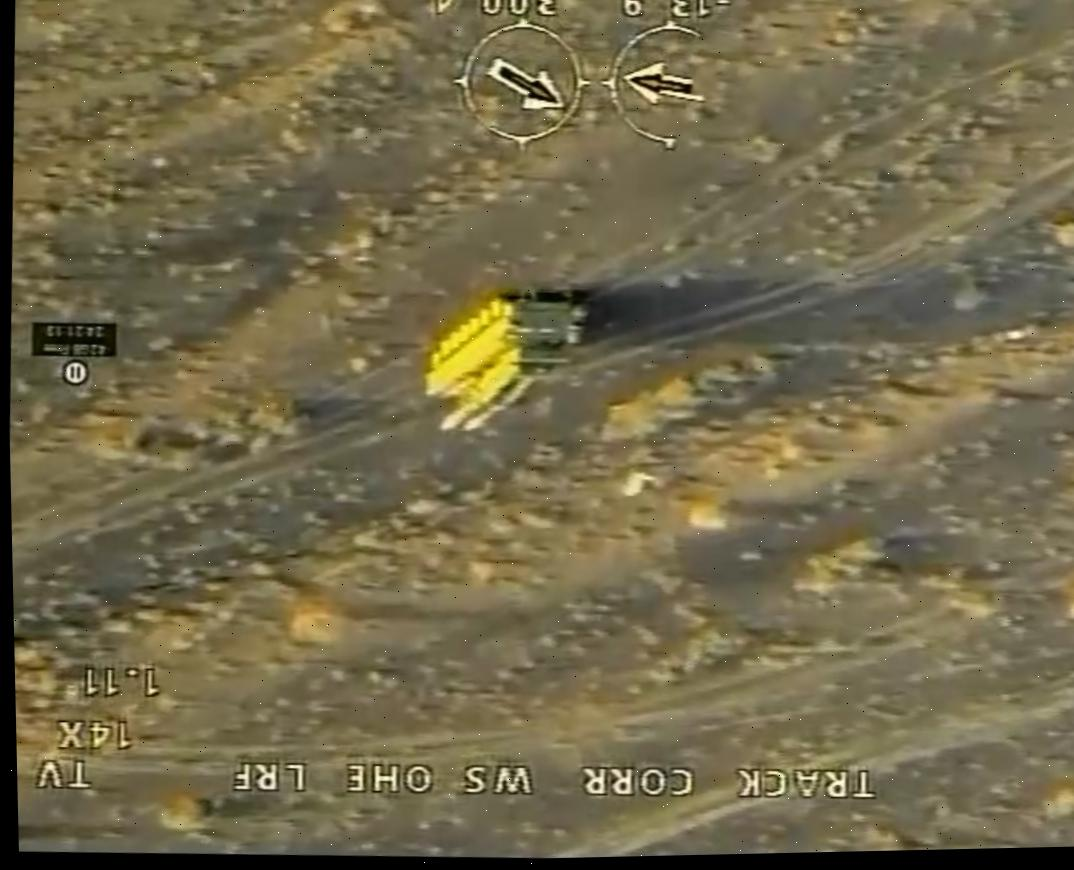armored_car: (417, 284, 593, 436)
